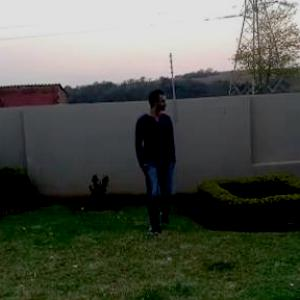follow: (136, 82, 186, 252)
